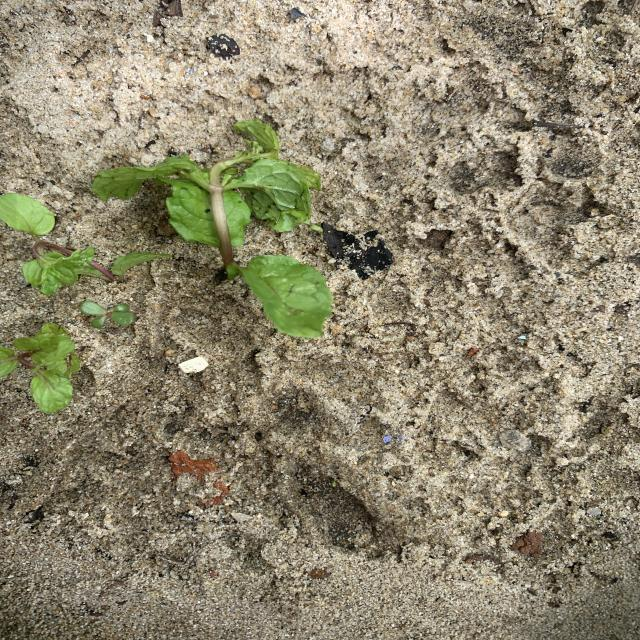crop: (97, 120, 331, 337), (0, 192, 168, 295), (0, 323, 79, 411)
weed: (80, 301, 135, 327)
